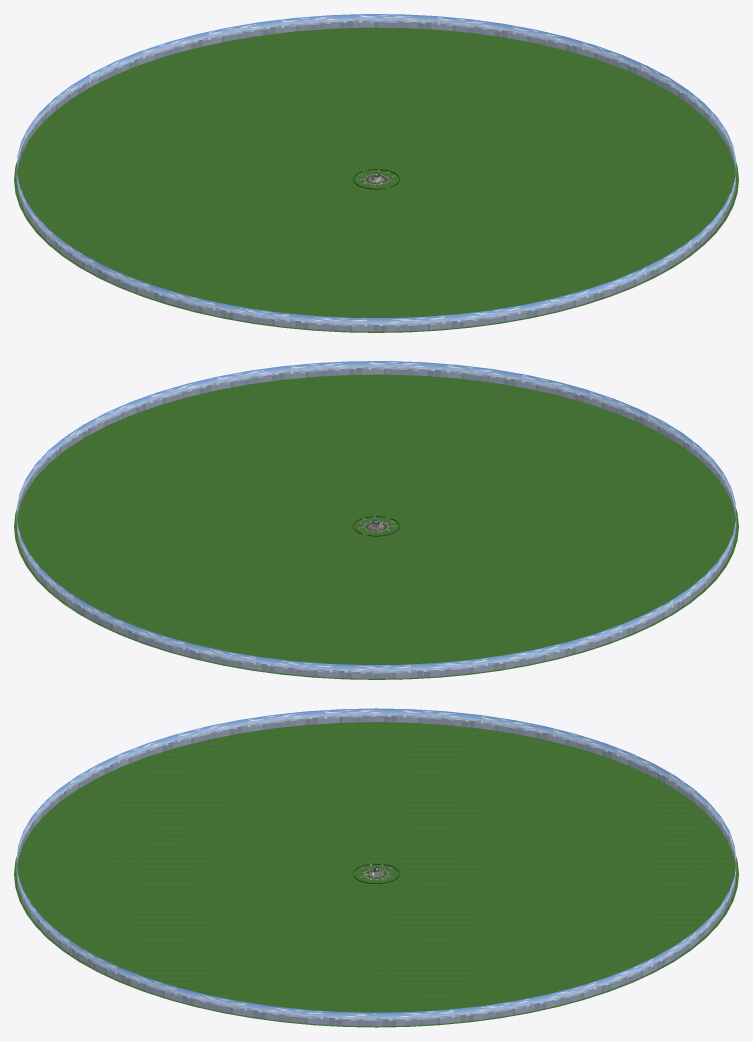
The model's file is town.glb.
3 views of the same model, one above another, from view 1: azimuth 30°, elevation 25°; view 2: azimuth 150°, elevation 25°; view 3: azimuth 270°, elevation 25° (orthographic).
Visible parts, largest first — view 1: Ground, Sky_Ring; view 2: Ground, Sky_Ring; view 3: Ground, Sky_Ring.
Part boxes in pixels (bbox=[...]): Ground: bbox=[14, 27, 738, 332]; Sky_Ring: bbox=[16, 14, 736, 331]; Ground: bbox=[14, 374, 738, 679]; Sky_Ring: bbox=[16, 361, 736, 678]; Ground: bbox=[14, 722, 738, 1027]; Sky_Ring: bbox=[16, 708, 736, 1026].
Bounding box in the file's own units: 1444 × 31.95 × 1444.
17 materials, 17 textured.
